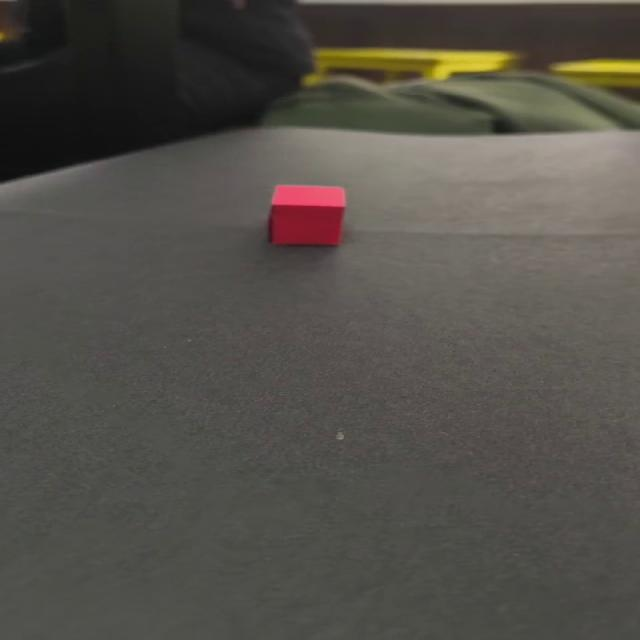red block: (266, 184, 346, 246)
